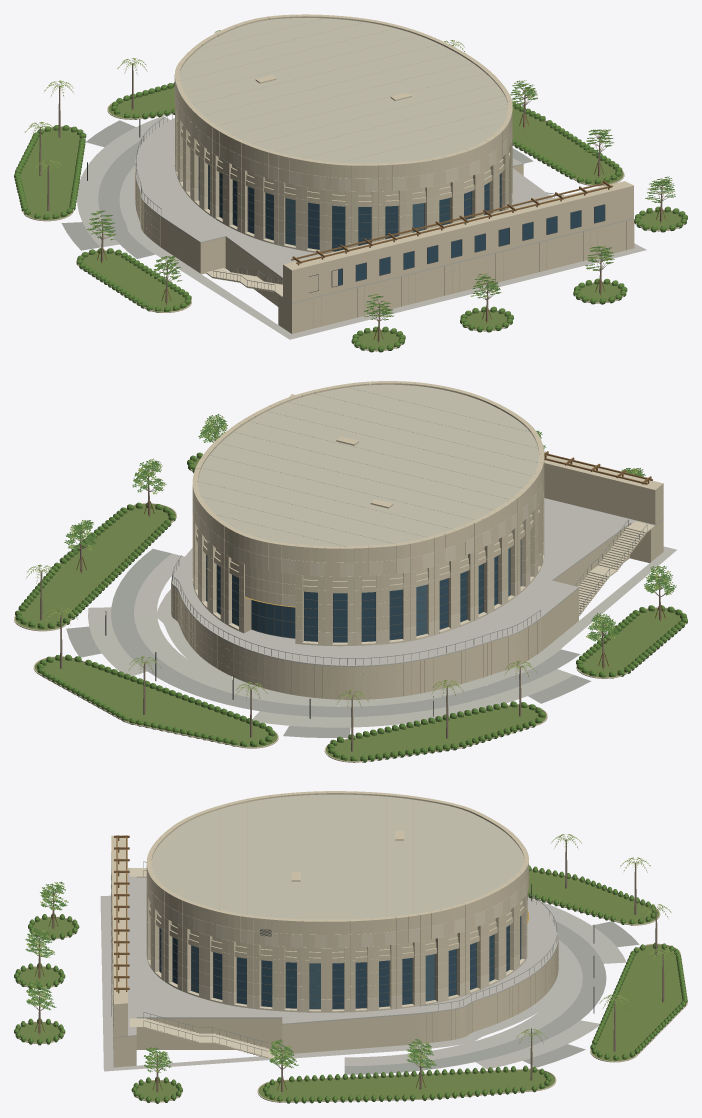
The model's file is hall-lod1.glb.
3 views of the same model, one above another, from view 1: azimuth 30°, elevation 25°; view 2: azimuth 150°, elevation 25°; view 3: azimuth 270°, elevation 25° (orthographic). The views are drawn at different scales.
Parts seen in each view (by area): view 1: oval roof membrane | roof.001, jointed pale stone facade | limestone.001, curved podium and terrace | limestone.001, connected planted lawns | lawn.001, rear support wing | limestone.001, podium terrace paving | pale paving.001, continuous low hedges | hedge.001, deep recessed glazing | blue glazing.001, jointed pale stone facade | limestone light.001, site perimeter paving | pale paving.001, fan plaza paving | dark paving.001, fan plaza paving | pale paving.001 (+11 smaller); view 2: oval roof membrane | roof.001, jointed pale stone facade | limestone.001, connected planted lawns | lawn.001, curved podium and terrace | limestone.001, podium terrace paving | pale paving.001, fan plaza paving | dark paving.001, continuous low hedges | hedge.001, fan plaza paving | pale paving.001, jointed pale stone facade | limestone light.001, site perimeter paving | pale paving.001, rear support wing | limestone.001, deep recessed glazing | blue glazing.001 (+13 smaller); view 3: oval roof membrane | roof.001, jointed pale stone facade | limestone.001, connected planted lawns | lawn.001, curved podium and terrace | limestone.001, podium terrace paving | pale paving.001, continuous low hedges | hedge.001, jointed pale stone facade | limestone light.001, fan plaza paving | pale paving.001, fan plaza paving | dark paving.001, deep recessed glazing | blue glazing.001, site perimeter paving | pale paving.001, stepped window heads | limestone.001 (+10 smaller).
Part boxes in pixels (<box>): oval roof membrane | roof.001: <box>179,18,507,163</box>; jointed pale stone facade | limestone.001: <box>174,14,512,243</box>; curved podium and terrace | limestone.001: <box>135,164,633,333</box>; connected planted lawns | lawn.001: <box>20,86,681,350</box>; rear support wing | limestone.001: <box>283,181,633,302</box>; podium terrace paving | pale paving.001: <box>135,118,633,303</box>; continuous low hedges | hedge.001: <box>14,82,687,352</box>; deep recessed glazing | blue glazing.001: <box>199,157,604,285</box>; jointed pale stone facade | limestone light.001: <box>174,88,512,253</box>; site perimeter paving | pale paving.001: <box>121,166,646,339</box>; fan plaza paving | dark paving.001: <box>61,120,533,258</box>; fan plaza paving | pale paving.001: <box>77,116,169,254</box>; oval roof membrane | roof.001: <box>197,384,539,546</box>; jointed pale stone facade | limestone.001: <box>192,381,544,632</box>; connected planted lawns | lawn.001: <box>15,458,680,761</box>; curved podium and terrace | limestone.001: <box>171,519,663,699</box>; podium terrace paving | pale paving.001: <box>171,498,663,666</box>; fan plaza paving | dark paving.001: <box>66,549,591,737</box>; continuous low hedges | hedge.001: <box>15,452,687,762</box>; fan plaza paving | pale paving.001: <box>88,553,573,727</box>; jointed pale stone facade | limestone light.001: <box>192,474,544,646</box>; site perimeter paving | pale paving.001: <box>156,546,676,706</box>; rear support wing | limestone.001: <box>289,394,663,524</box>; deep recessed glazing | blue glazing.001: <box>206,540,520,641</box>; oval roof membrane | roof.001: <box>151,794,524,919</box>; jointed pale stone facade | limestone.001: <box>146,791,528,999</box>; connected planted lawns | lawn.001: <box>19,870,686,1101</box>; curved podium and terrace | limestone.001: <box>111,907,558,1067</box>; podium terrace paving | pale paving.001: <box>111,868,558,1037</box>; continuous low hedges | hedge.001: <box>14,865,687,1103</box>; jointed pale stone facade | limestone light.001: <box>146,878,527,1012</box>; fan plaza paving | pale paving.001: <box>344,897,626,1069</box>; fan plaza paving | dark paving.001: <box>344,919,639,1074</box>; deep recessed glazing | blue glazing.001: <box>159,925,509,1008</box>; site perimeter paving | pale paving.001: <box>100,895,572,1071</box>; stepped window heads | limestone.001: <box>149,900,524,963</box>.
Size of the model in its own units: 85.09 by 19.94 by 97.27.
